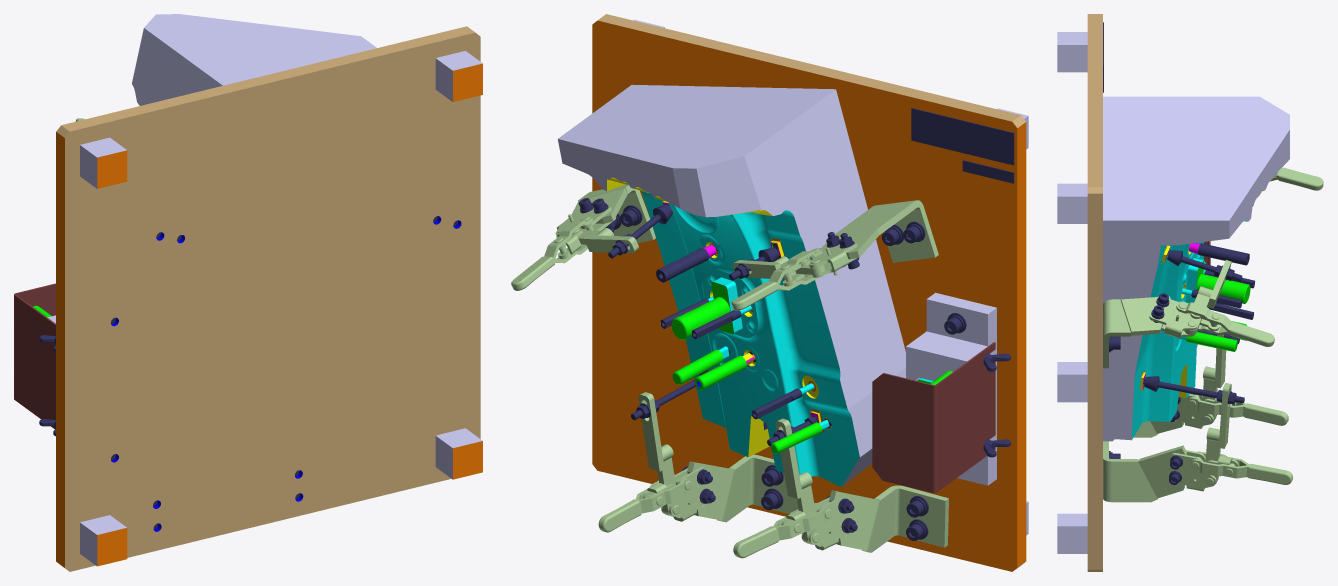
File: FS145938_611147-V2011-001_K00_260428_KEN.obj
3 renders of one model, left to right at view 1: azimuth 30°, elevation 25°; view 2: azimuth 150°, elevation 25°; view 3: azimuth 270°, elevation 25°, orthographic. The views are drawn at different scales.
Visible parts, largest first — view 1: Shell_004, Shell_007, Shell_175, Shell_002, Shell_000, Shell_003, Shell_001; view 2: Shell_004, Shell_007, Shell_175, Shell_174, Shell_005, Shell_074, Shell_139, Shell_100, Shell_026, Shell_063, Shell_095, Shell_075 (+16 smaller); view 3: Shell_007, Shell_004, Shell_100, Shell_095, Shell_146, Shell_101, Shell_000, Shell_001, Shell_002, Shell_003, Shell_063, Shell_026 (+17 smaller).
Boxes of the visible parts, box(x1,y1,x2,y2) form: Shell_004: box(56, 26, 480, 571); Shell_007: box(132, 14, 376, 105); Shell_175: box(14, 283, 55, 429); Shell_002: box(435, 51, 482, 101); Shell_000: box(80, 515, 127, 566); Shell_003: box(435, 428, 482, 479); Shell_001: box(80, 137, 127, 188); Shell_004: box(592, 14, 1026, 571); Shell_007: box(557, 84, 905, 487); Shell_175: box(872, 342, 995, 493); Shell_174: box(906, 292, 996, 485); Shell_005: box(911, 108, 1014, 165); Shell_074: box(862, 485, 948, 552); Shell_139: box(835, 200, 938, 262); Shell_100: box(717, 454, 798, 522); Shell_026: box(671, 277, 742, 340); Shell_063: box(733, 503, 833, 558); Shell_095: box(598, 474, 692, 532); Shell_075: box(829, 490, 879, 550); Shell_007: box(1103, 96, 1289, 441); Shell_004: box(1087, 14, 1102, 571); Shell_100: box(1103, 441, 1157, 502); Shell_095: box(1189, 451, 1292, 484); Shell_146: box(1176, 301, 1274, 346); Shell_101: box(1138, 445, 1187, 498); Shell_000: box(1057, 362, 1087, 402); Shell_001: box(1057, 32, 1087, 72); Shell_002: box(1057, 183, 1087, 223); Shell_003: box(1057, 513, 1087, 553); Shell_063: box(1187, 397, 1288, 425); Shell_026: box(1186, 258, 1250, 303).
Size of the model in its own units: 415 by 420 by 263.
